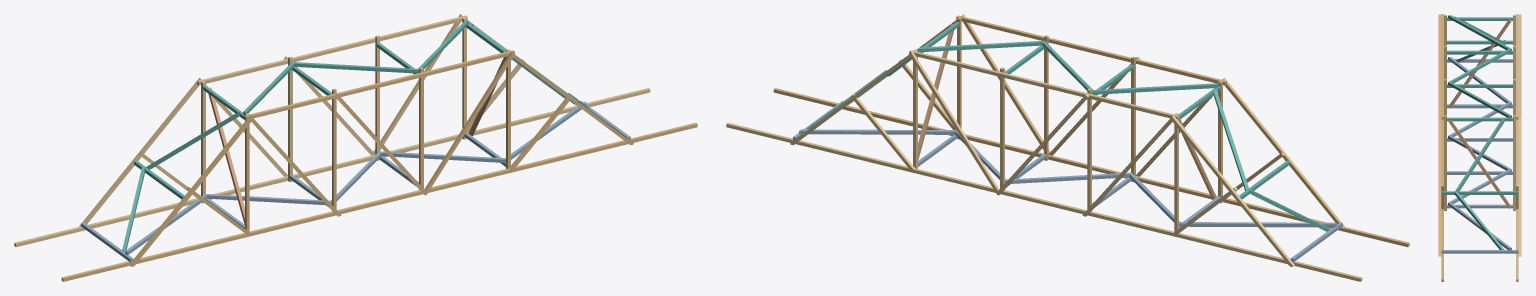
Rendered from bridge-model.glb.
3 renders of one model, left to right at view 1: azimuth 30°, elevation 25°; view 2: azimuth 150°, elevation 25°; view 3: azimuth 270°, elevation 25°, orthographic. The views are drawn at different scales.
Parts seen in each view (by area): view 1: N_A, P_A, N_B, P_B, N_C1, P_C1, N_F2, Kt3, L0, P_F2, N_C2, Kb1 (+16 smaller); view 2: P_A, N_A, P_B, N_B, P_C1, N_C1, P_F2, Kb4, Kb0, N_F2, Kt2, Kt4 (+16 smaller); view 3: N_C2, P_C2, N_A, P_A, L1, I5, L0, I6, Kt4, N_B, P_B, Kt3 (+34 smaller).
Part boxes in pixels (<box>): N_A: <box>61,122,697,281</box>; P_A: <box>14,88,650,247</box>; N_B: <box>244,50,514,119</box>; P_B: <box>197,15,467,85</box>; N_C1: <box>129,115,251,266</box>; P_C1: <box>79,78,200,226</box>; N_F2: <box>424,51,512,194</box>; Kt3: <box>292,62,418,73</box>; L0: <box>208,87,249,225</box>; P_F2: <box>373,14,461,154</box>; N_C2: <box>513,53,633,145</box>; Kb1: <box>206,194,331,205</box>; P_A: <box>726,122,1362,281</box>; N_A: <box>773,88,1409,247</box>; P_B: <box>909,50,1179,119</box>; N_B: <box>956,15,1226,85</box>; P_C1: <box>1172,115,1294,266</box>; N_C1: <box>1223,78,1344,226</box>; P_F2: <box>911,51,999,194</box>; Kb4: <box>799,129,956,134</box>; Kb0: <box>1179,222,1336,227</box>; N_F2: <box>962,14,1050,154</box>; Kt2: <box>1092,83,1218,94</box>; Kt4: <box>917,40,1044,52</box>; N_C2: <box>1438,115,1441,256</box>; P_C2: <box>1518,115,1521,256</box>; N_A: <box>1441,119,1443,281</box>; P_A: <box>1516,119,1518,281</box>; L1: <box>1448,119,1511,208</box>; I5: <box>1455,118,1505,191</box>; L0: <box>1448,19,1511,108</box>; I6: <box>1454,191,1504,249</box>; Kt4: <box>1448,82,1511,118</box>; N_B: <box>1441,14,1443,119</box>; P_B: <box>1516,14,1518,119</box>; Kt3: <box>1448,49,1511,83</box>.
Size of the model in its own units: 0.51 by 0.095 by 0.0735.
